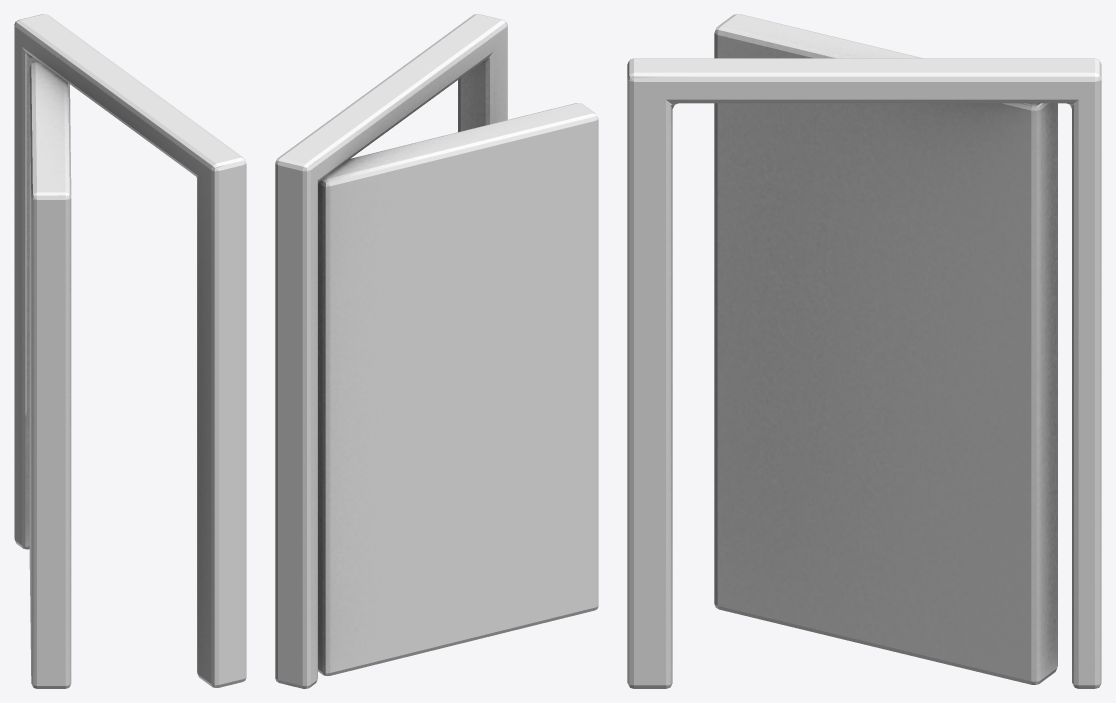
The model's file is Door.glb.
The picture shows the model from 3 angles, left to right: view 1: azimuth 30°, elevation 25°; view 2: azimuth 150°, elevation 25°; view 3: azimuth 270°, elevation 25°; orthographic projection. The views are drawn at different scales.
Visible parts, largest first — view 1: Cube; view 2: Cube; view 3: Cube.
Part boxes in pixels (bbox=[...]): Cube: bbox=[14, 14, 246, 688]; Cube: bbox=[275, 14, 598, 688]; Cube: bbox=[627, 14, 1101, 688].
Size of the model in its own units: 0.1247 by 0.3683 by 0.2571.
1 material, 1 textured.
